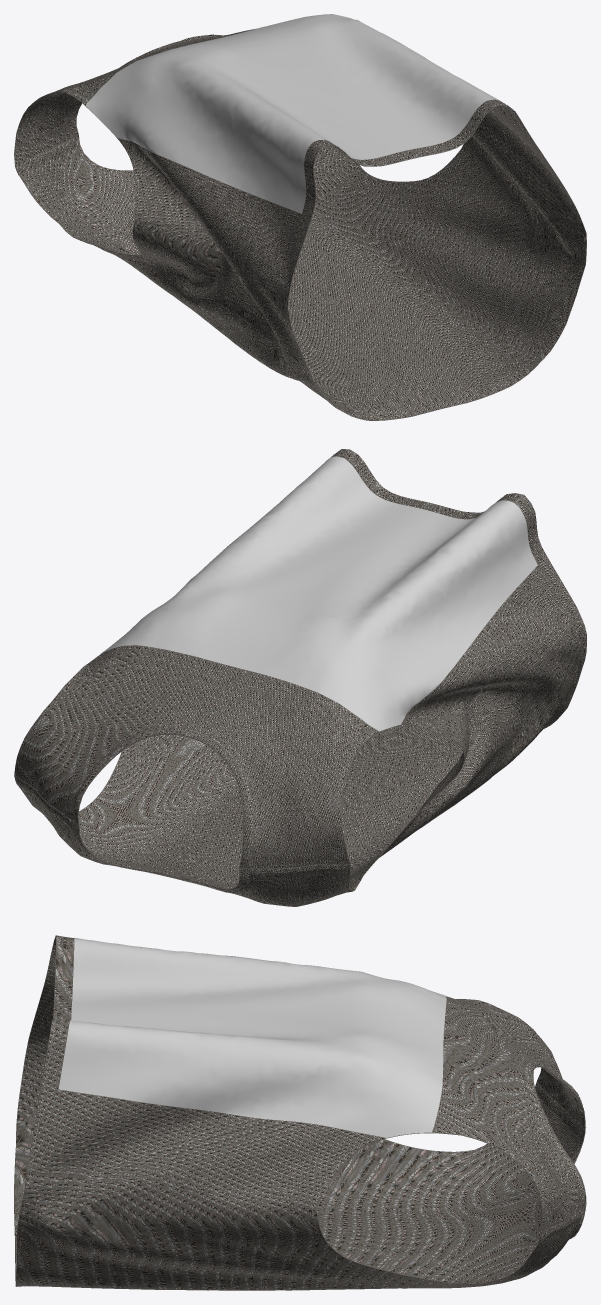
Rendered from crop.obj.
The picture shows the model from 3 angles, top to bottom: view 1: azimuth 30°, elevation 25°; view 2: azimuth 150°, elevation 25°; view 3: azimuth 270°, elevation 25°; orthographic projection.
Parts seen in each view (by area): view 1: crpT; view 2: crpT; view 3: crpT.
Boxes of the visible parts, x1,y1,x2,y2 form: crpT: [14, 14, 586, 420]; crpT: [14, 449, 586, 906]; crpT: [14, 935, 586, 1290].
Size of the model in its own units: 1.95 by 1.48 by 2.8.
